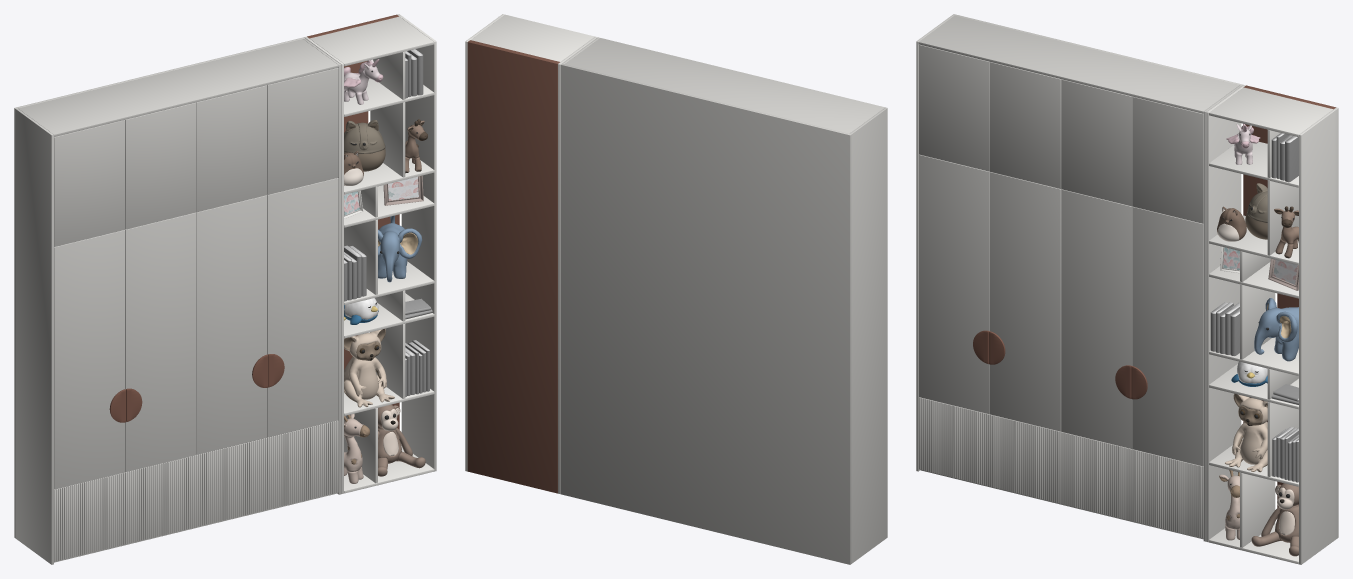
Rendered from kids-room-8.glb.
The picture shows the model from 3 angles, left to right: view 1: azimuth 30°, elevation 25°; view 2: azimuth 150°, elevation 25°; view 3: azimuth 330°, elevation 25°; orthographic projection.
Parts seen in each view (by area): view 1: kids-room-8 | White_lak_for_Furniture_Composition_2, kids-room-8 | white_lak_for_Furniture_composition, kids-room-8 | Gray_lak_for_Furniture_Composition, kids-room-8 | Lenivec_plush, kids-room-8 | Plush_blue_for_elephant, kids-room-8 | Monkey_plush_light, kids-room-8 | Plush_light, kids-room-8 | Jiraffe_plush, kids-room-8 | Unicorn_plush_white, kids-room-8 | Monkey_dark_plush, kids-room-8 | Jiraffe_soft_plush_beige, kids-room-8 | Lenivec_plush_light (+5 smaller); view 2: kids-room-8 | White_lak_for_Furniture_Composition_2, kids-room-8 | Gray_lak_for_Furniture_Composition, kids-room-8 | white_lak_for_Furniture_composition; view 3: kids-room-8 | White_lak_for_Furniture_Composition_2, kids-room-8 | white_lak_for_Furniture_composition, kids-room-8 | Gray_lak_for_Furniture_Composition, kids-room-8 | Lenivec_plush, kids-room-8 | Plush_blue_for_elephant, kids-room-8 | Monkey_plush_light, kids-room-8 | book_012, kids-room-8 | Jiraffe_plush, kids-room-8 | Jiraffe_soft_plush_beige, kids-room-8 | Monkey_dark_plush, kids-room-8 | str_for_books, kids-room-8 | Plush_light (+3 smaller).
Boxes of the visible parts, left/top/right/bottom form: kids-room-8 | White_lak_for_Furniture_Composition_2: left=14, top=37, right=341, bottom=564; kids-room-8 | white_lak_for_Furniture_composition: left=304, top=14, right=436, bottom=493; kids-room-8 | Gray_lak_for_Furniture_Composition: left=109, top=14, right=399, bottom=429; kids-room-8 | Lenivec_plush: left=344, top=328, right=394, bottom=406; kids-room-8 | Plush_blue_for_elephant: left=378, top=215, right=422, bottom=282; kids-room-8 | Monkey_plush_light: left=378, top=404, right=425, bottom=476; kids-room-8 | Plush_light: left=344, top=120, right=385, bottom=153; kids-room-8 | Jiraffe_plush: left=344, top=414, right=363, bottom=483; kids-room-8 | Unicorn_plush_white: left=344, top=59, right=380, bottom=104; kids-room-8 | Monkey_dark_plush: left=381, top=408, right=399, bottom=455; kids-room-8 | Jiraffe_soft_plush_beige: left=405, top=120, right=424, bottom=171; kids-room-8 | Lenivec_plush_light: left=344, top=329, right=394, bottom=407; kids-room-8 | White_lak_for_Furniture_Composition_2: left=560, top=37, right=887, bottom=564; kids-room-8 | Gray_lak_for_Furniture_Composition: left=467, top=40, right=559, bottom=493; kids-room-8 | white_lak_for_Furniture_composition: left=465, top=14, right=597, bottom=493; kids-room-8 | White_lak_for_Furniture_Composition_2: left=916, top=14, right=1242, bottom=541; kids-room-8 | white_lak_for_Furniture_composition: left=1206, top=85, right=1338, bottom=564; kids-room-8 | Gray_lak_for_Furniture_Composition: left=973, top=85, right=1335, bottom=507; kids-room-8 | Lenivec_plush: left=1225, top=393, right=1267, bottom=471; kids-room-8 | Plush_blue_for_elephant: left=1254, top=298, right=1298, bottom=361; kids-room-8 | Monkey_plush_light: left=1251, top=483, right=1298, bottom=556; kids-room-8 | book_012: left=1230, top=309, right=1298, bottom=401; kids-room-8 | Jiraffe_plush: left=1219, top=474, right=1239, bottom=540; kids-room-8 | Jiraffe_soft_plush_beige: left=1274, top=208, right=1298, bottom=257; kids-room-8 | Monkey_dark_plush: left=1276, top=486, right=1294, bottom=535; kids-room-8 | str_for_books: left=1211, top=133, right=1298, bottom=443; kids-room-8 | Plush_light: left=1247, top=183, right=1267, bottom=222.
Size of the model in its own units: 2.81 by 3 by 0.5101.
56 materials, 3 textured.
